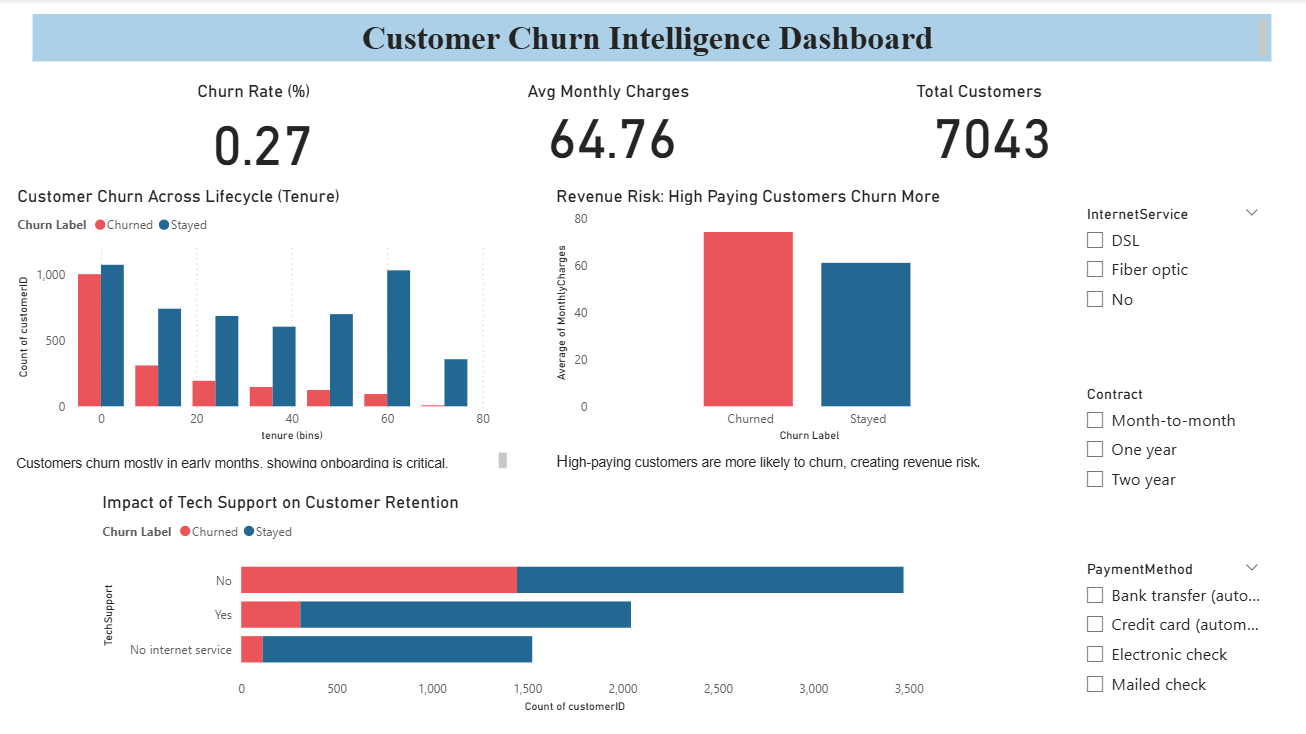

Layout of this report page (visuals, bound fields, positions):
{"tool":"powerbi","page":{"name":"Page 1","canvas":[1280,720],"ordinal":0},"visuals":[{"type":"card","title":"Churn Rate (%)","fields":{"Values":["Avg(Telco-Customer-Churn.Churn)"]},"box":[187.8,79.5,137.1,94.6],"z":0},{"type":"card","title":"Avg Monthly Charges","fields":{"Values":["Avg(Telco-Customer-Churn.MonthlyCharges)"]},"box":[511.4,79.5,175.5,82.3],"z":1000},{"type":"card","title":"Total Customers","fields":{"Values":["CountNonNull(Telco-Customer-Churn.customerID)"]},"box":[891.2,79.5,159,82.3],"z":2000},{"type":"clusteredColumnChart","title":"Customer Churn Across Lifecycle (Tenure)","fields":{"Category":["Telco-Customer-Churn.tenure (bins)"],"Series":["Telco-Customer-Churn.Churn Label"],"Y":["CountNonNull(Telco-Customer-Churn.customerID)"]},"box":[12.5,182.5,490,256.2],"z":3000},{"type":"clusteredColumnChart","title":"Revenue Risk: High Paying Customers Churn More","fields":{"Category":["Telco-Customer-Churn.Churn Label"],"Y":["Avg(Telco-Customer-Churn.MonthlyCharges)"]},"box":[538.8,182.5,465,256.2],"z":4000},{"type":"barChart","title":"Impact of Tech Support on Customer Retention","fields":{"Category":["Telco-Customer-Churn.TechSupport"],"Series":["Telco-Customer-Churn.Churn Label"],"Y":["CountNonNull(Telco-Customer-Churn.customerID)"]},"box":[95,481.2,813.8,221.2],"z":5000},{"type":"slicer","fields":{"Values":["Telco-Customer-Churn.Contract"]},"box":[1050.2,372.9,193.3,131.6],"z":6000},{"type":"slicer","fields":{"Values":["Telco-Customer-Churn.InternetService"]},"box":[1050.2,197.4,193.3,134.4],"z":7000},{"type":"slicer","fields":{"Values":["Telco-Customer-Churn.PaymentMethod"]},"box":[1050.2,544.3,193.3,159],"z":8000},{"type":"textbox","box":[31.5,15.1,1212,46.6],"z":9000},{"type":"textbox","box":[11.2,438.8,490,25],"z":10000},{"type":"textbox","box":[538.8,438.8,465,33.8],"z":11000}]}

Visuals, with their boxes in screenshot pixels (x1, y1, x2, y2), scaled from the page's 1280x720 canvas onto the 1306x734 screenshot:
"Churn Rate (%)" card: 192:81:331:177
"Avg Monthly Charges" card: 522:81:701:165
"Total Customers" card: 909:81:1072:165
"Customer Churn Across Lifecycle (Tenure)" clusteredColumnChart: 13:186:513:447
"Revenue Risk: High Paying Customers Churn More" clusteredColumnChart: 550:186:1024:447
"Impact of Tech Support on Customer Retention" barChart: 97:491:927:716
slicer - Telco-Customer-Churn.Contract: 1072:380:1269:514
slicer - Telco-Customer-Churn.InternetService: 1072:201:1269:338
slicer - Telco-Customer-Churn.PaymentMethod: 1072:555:1269:717
textbox: 32:15:1269:63
textbox: 11:447:511:473
textbox: 550:447:1024:482
